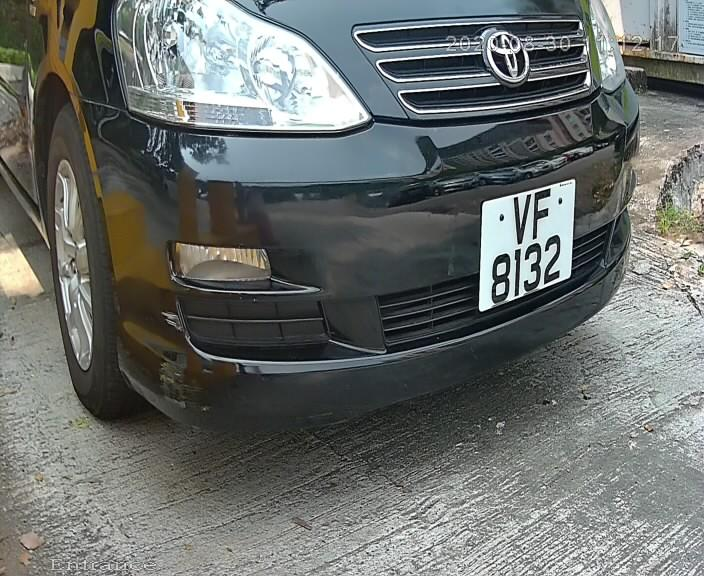License Plate: (475, 165, 582, 322)
